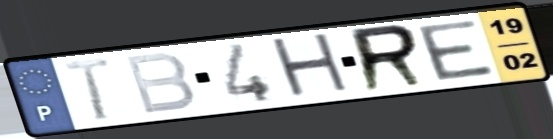4: (222, 41, 276, 104)
B: (121, 50, 200, 117)
E: (412, 17, 499, 83)
H: (266, 30, 356, 102)
R: (348, 22, 431, 96)
T: (59, 55, 115, 124)
